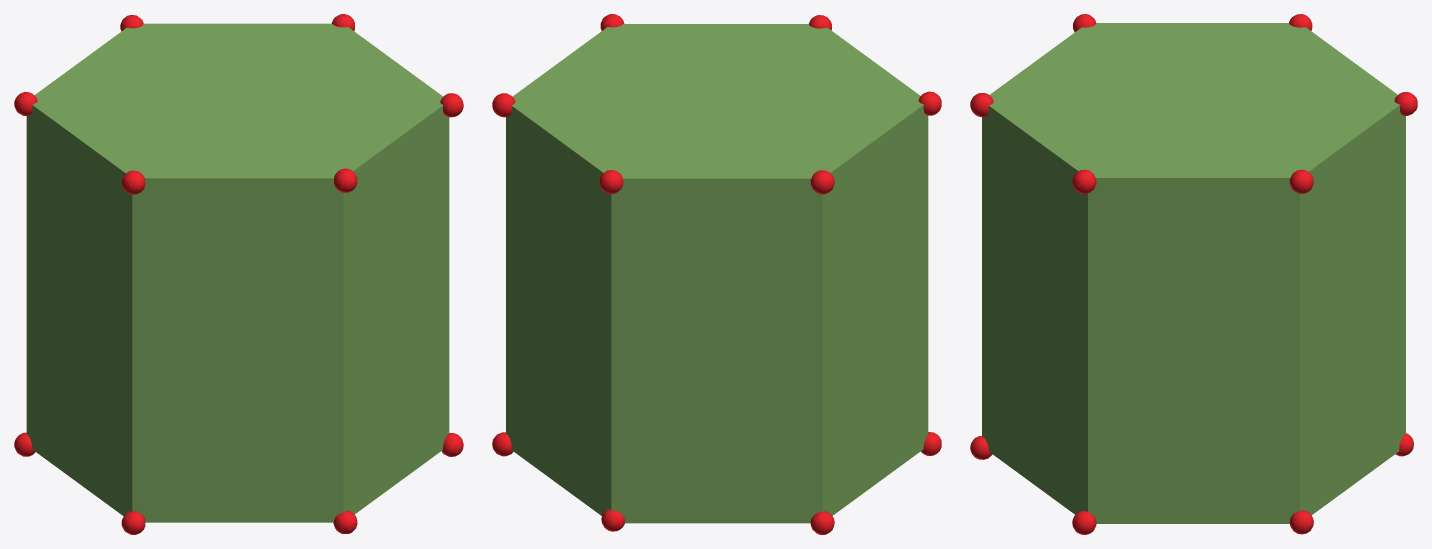
3 renders of one model, left to right at view 1: azimuth 30°, elevation 25°; view 2: azimuth 150°, elevation 25°; view 3: azimuth 270°, elevation 25°, orthographic.
Visible parts, largest first — view 1: 六角柱, 頂點.012; view 2: 六角柱, 頂點.012; view 3: 六角柱, 頂點.012.
Part boxes in pixels (left/top/right/bottom): 六角柱: left=26, top=23, right=449, bottom=522; 頂點.012: left=14, top=14, right=463, bottom=534; 六角柱: left=506, top=24, right=928, bottom=523; 頂點.012: left=492, top=14, right=941, bottom=534; 六角柱: left=982, top=23, right=1405, bottom=523; 頂點.012: left=970, top=14, right=1417, bottom=534.
Bounding box in the file's own units: 1.85 × 1.9 × 2.11.
